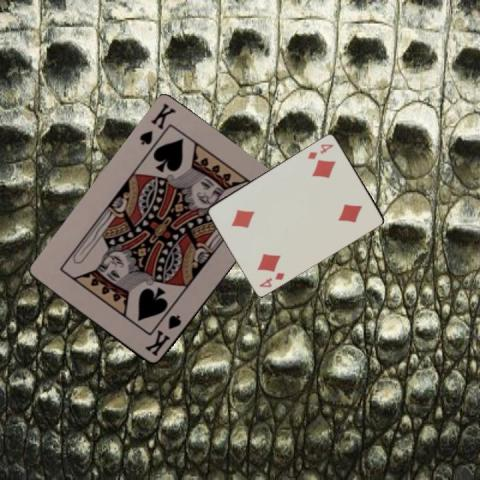4d: (305, 140, 335, 160), (256, 269, 286, 289)
Ks: (142, 312, 183, 359), (136, 101, 177, 147)
